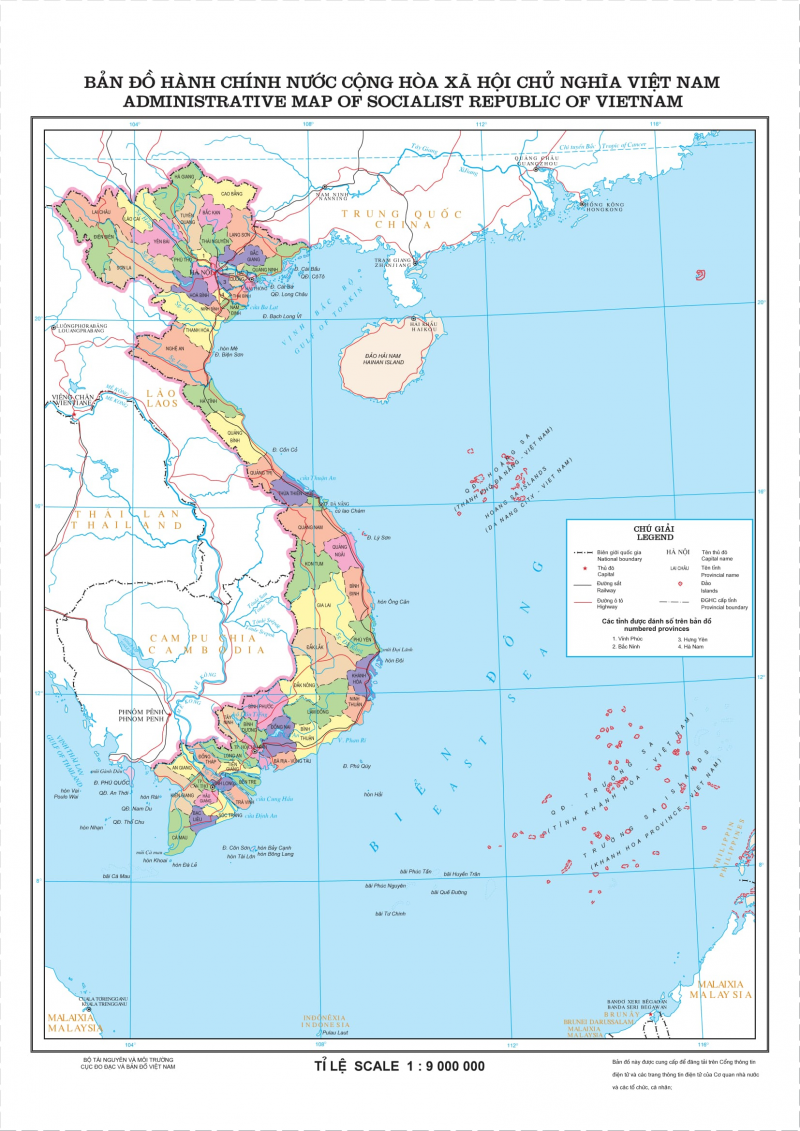Island: (502, 699, 724, 908), (438, 413, 584, 542)
